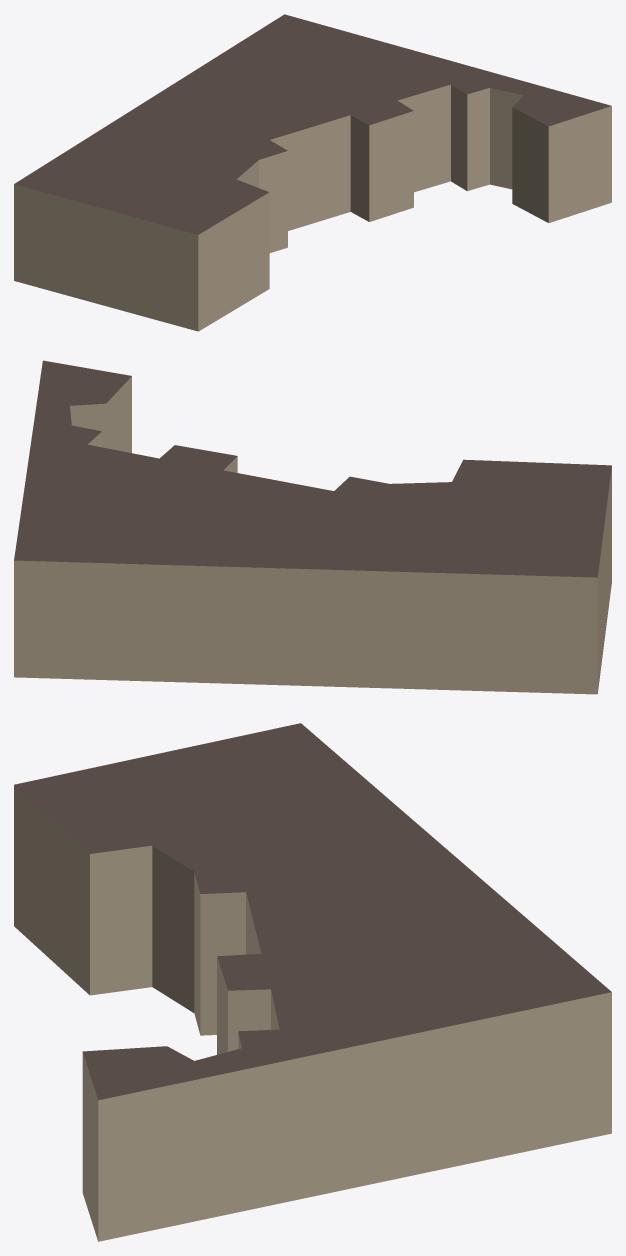
3 views of the same model, one above another, from view 1: azimuth 30°, elevation 25°; view 2: azimuth 150°, elevation 25°; view 3: azimuth 270°, elevation 25° (orthographic). The views are drawn at different scales.
Parts seen in each view (by area): view 1: HP-w293397478; view 2: HP-w293397478; view 3: HP-w293397478.
Part boxes in pixels (bbox=[...]): HP-w293397478: bbox=[14, 14, 611, 331]; HP-w293397478: bbox=[14, 360, 611, 694]; HP-w293397478: bbox=[14, 723, 611, 1241].
Bounding box in the file's own units: 51.45 × 9 × 34.47.
